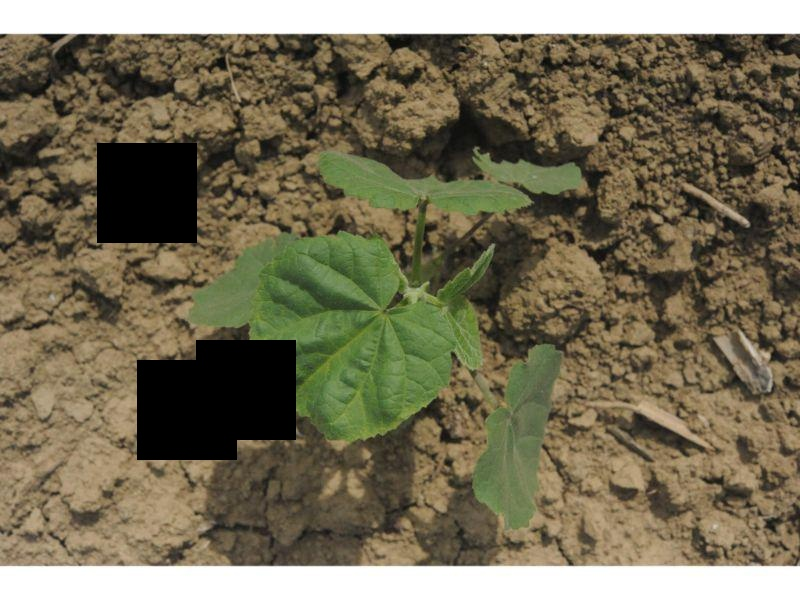velvet: (187, 146, 584, 528)
